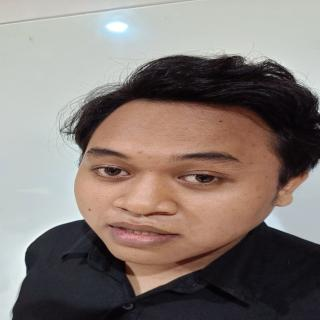Takut: (68, 86, 281, 269)
